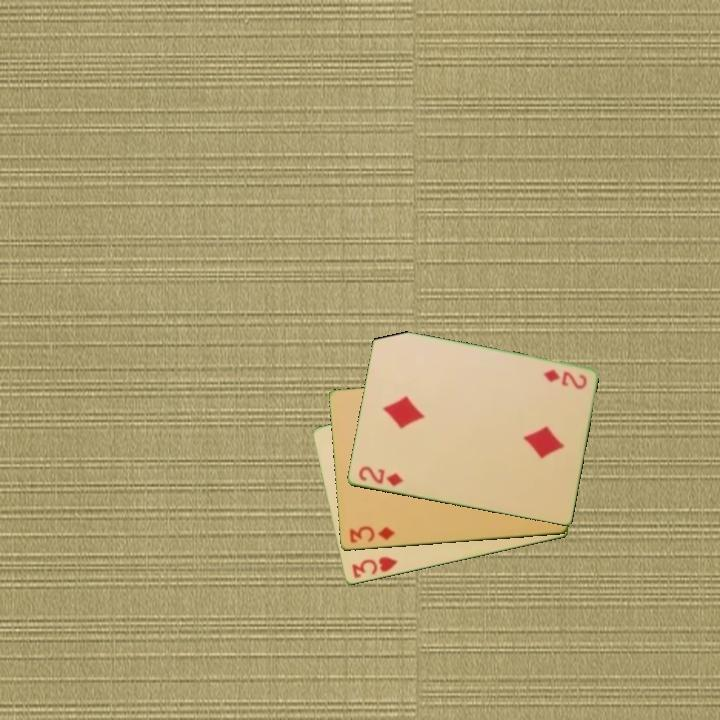2d: (355, 463, 406, 489), (540, 366, 589, 391)
3d: (346, 523, 398, 546)
3h: (348, 553, 401, 581)
